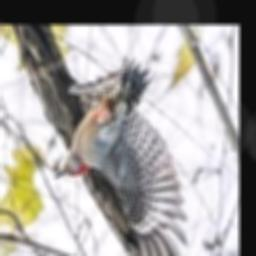Woodpecker: (55, 58, 187, 256)
